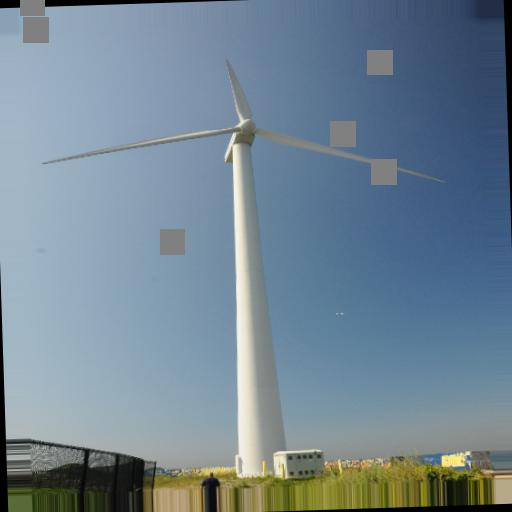wind turbine: (43, 58, 448, 447)
